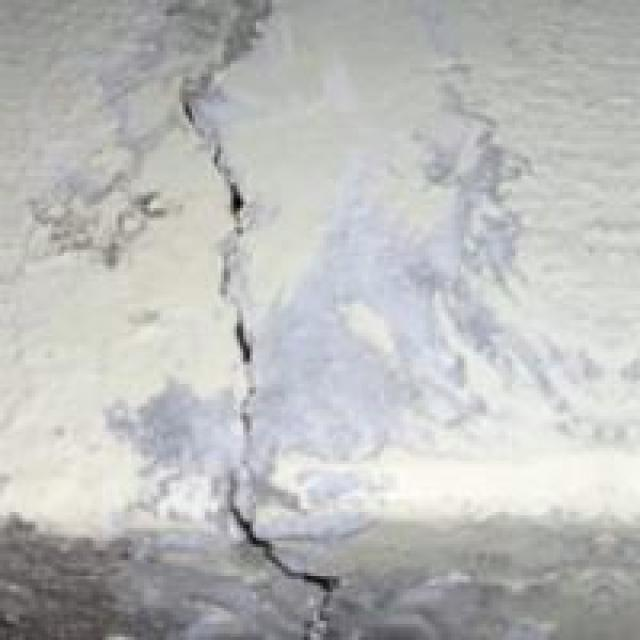SurfaceCrack: (146, 72, 374, 602)
